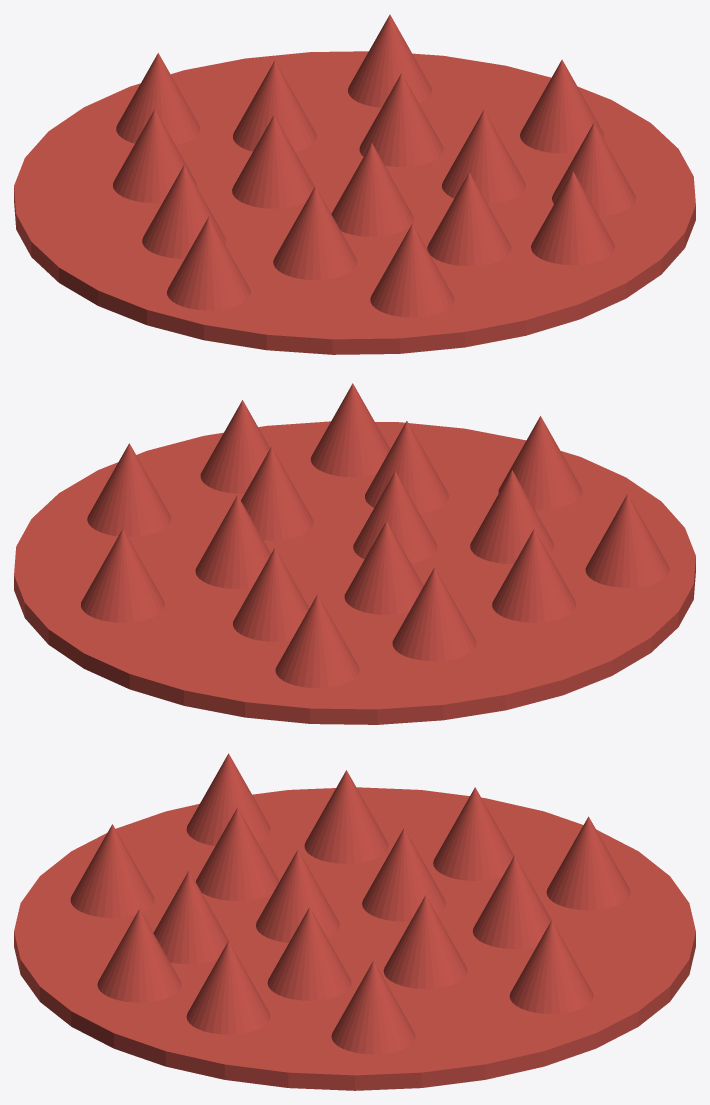
Rendered from field_dmg.gltf.
3 views of the same model, one above another, from view 1: azimuth 30°, elevation 25°; view 2: azimuth 150°, elevation 25°; view 3: azimuth 270°, elevation 25° (orthographic).
Visible parts, largest first — view 1: Circle; view 2: Circle; view 3: Circle.
Part boxes in pixels (<box>): Circle: <box>14,14,695,354</box>; Circle: <box>14,383,695,724</box>; Circle: <box>14,753,695,1090</box>.
Size of the model in its own units: 2 by 0.2968 by 2.
1 material, 1 textured.
